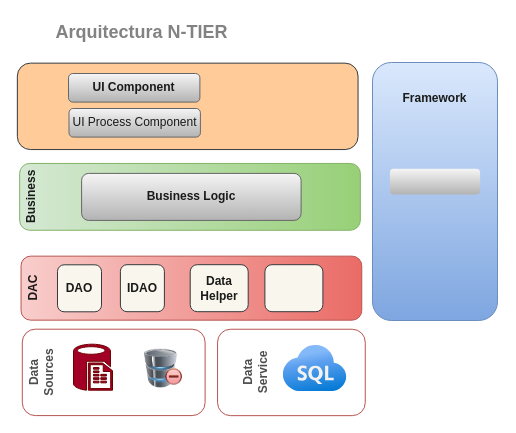
Some shapes in this 516 by 433 pixel diagram are drawn without their labels. The centre of each missing label's shape, as x and y in pixels:
"database" belongs at point 163,368.
"DTO" belongs at point 293,288.
"MsgException" belongs at point 434,181.
"SQLITE" belongs at point 92,366.
"User Interface" belongs at point 187,106.
